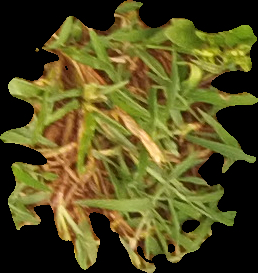grass: (1, 1, 256, 271)
